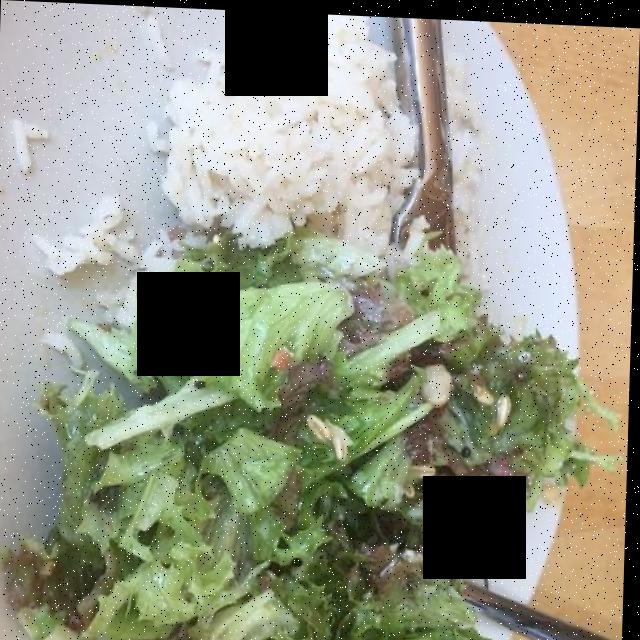rice: (28, 28, 489, 358)
salad-leaf-salad-green: (7, 225, 617, 640)
